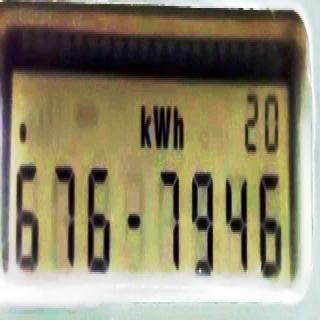-: (126, 204, 142, 234), (19, 116, 27, 148)
0: (264, 87, 280, 161)
2: (243, 87, 260, 159)
4: (224, 168, 250, 280)
6: (257, 163, 284, 282), (86, 160, 112, 283), (14, 156, 40, 278)
7: (159, 164, 182, 274), (54, 157, 76, 271)
9: (190, 163, 216, 284)
